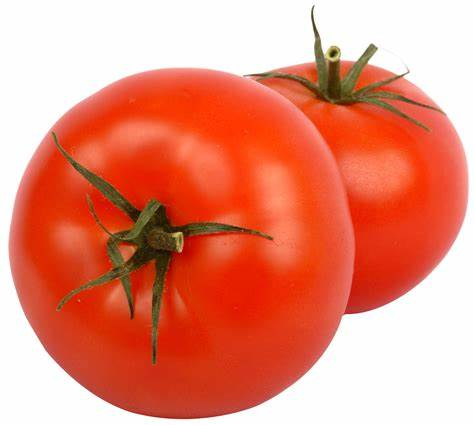Tomato: (6, 63, 355, 422), (215, 4, 474, 338)
